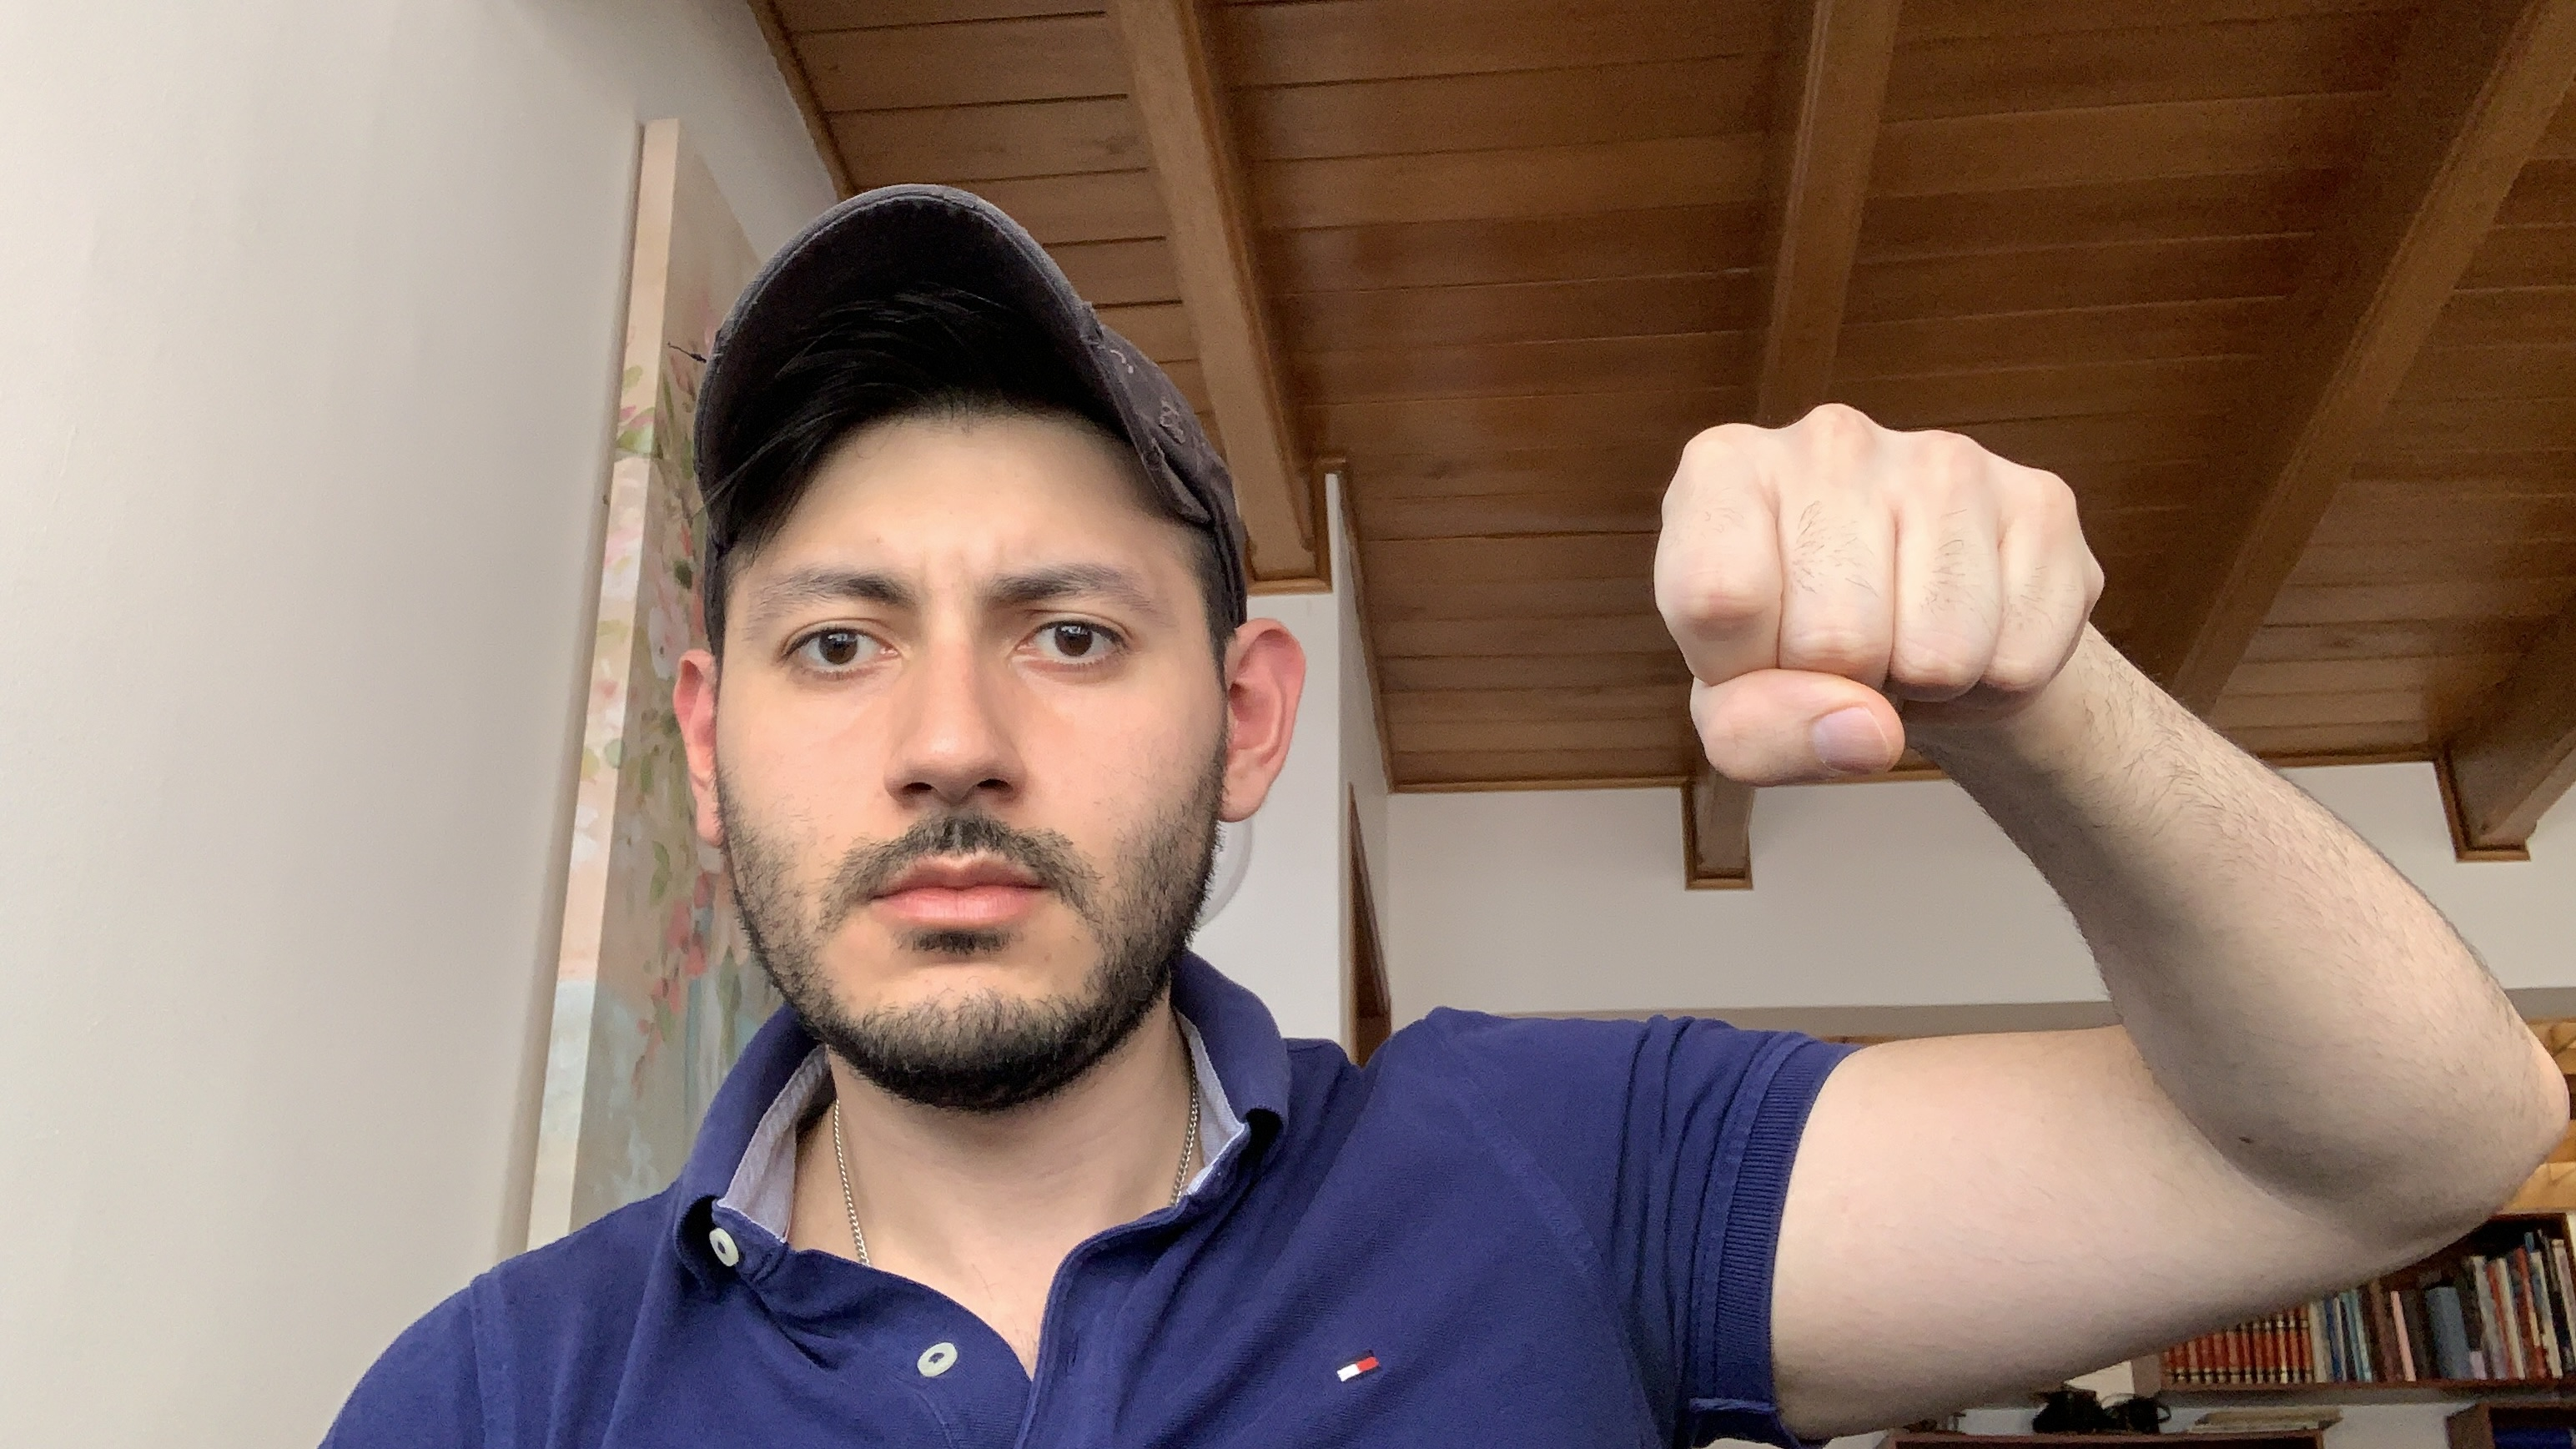Yes: (1640, 395, 2125, 789)
